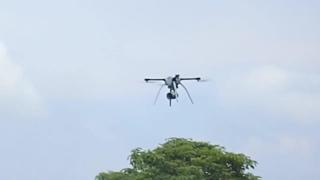UAV: (144, 75, 208, 106)
